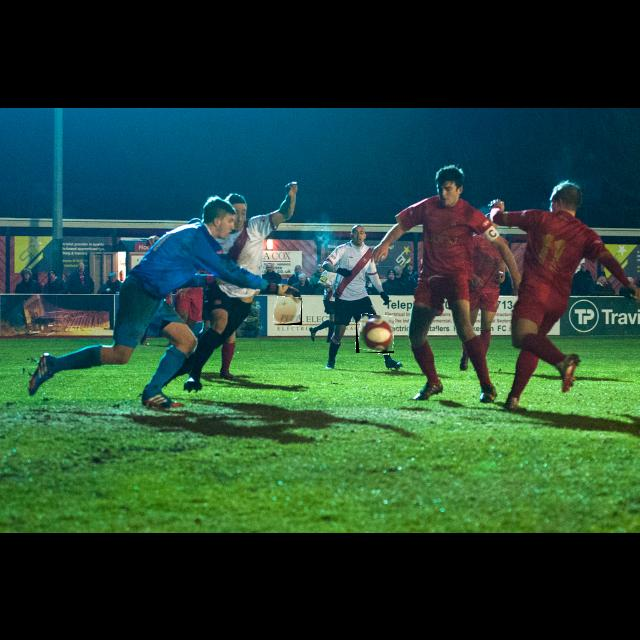Football: (356, 315, 394, 353), (274, 297, 302, 325)
